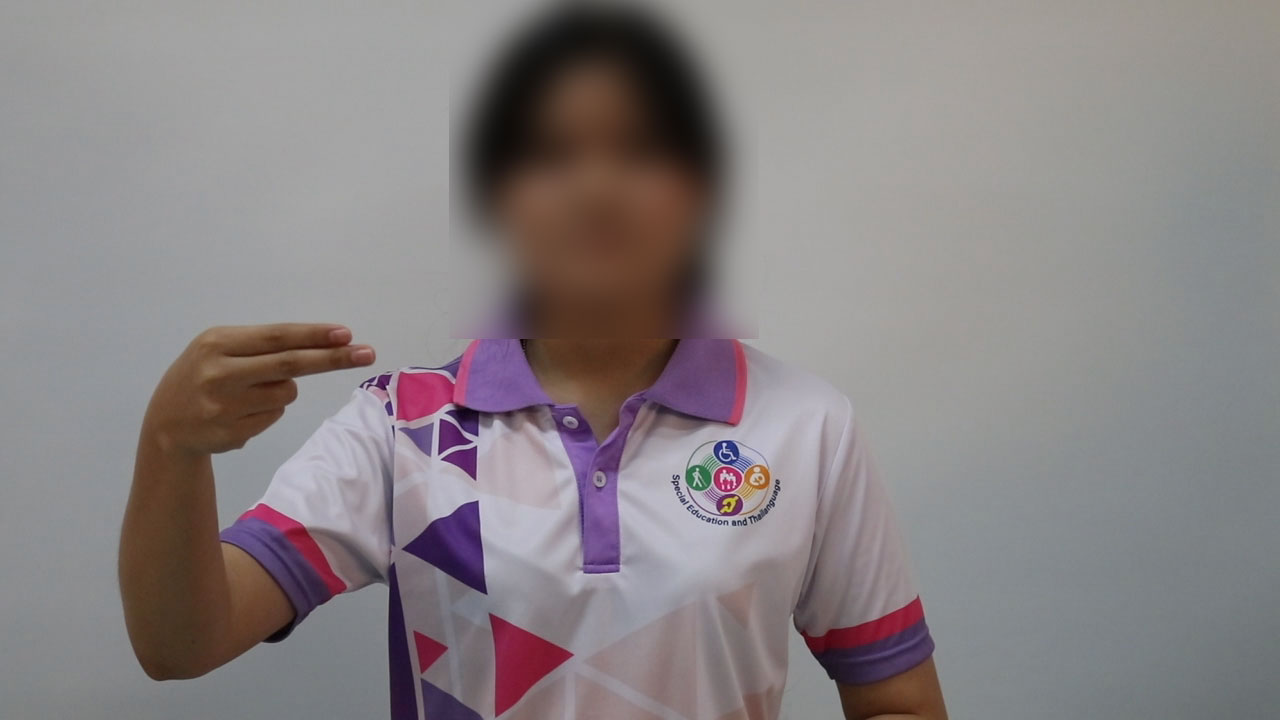hor: (111, 311, 397, 464)
